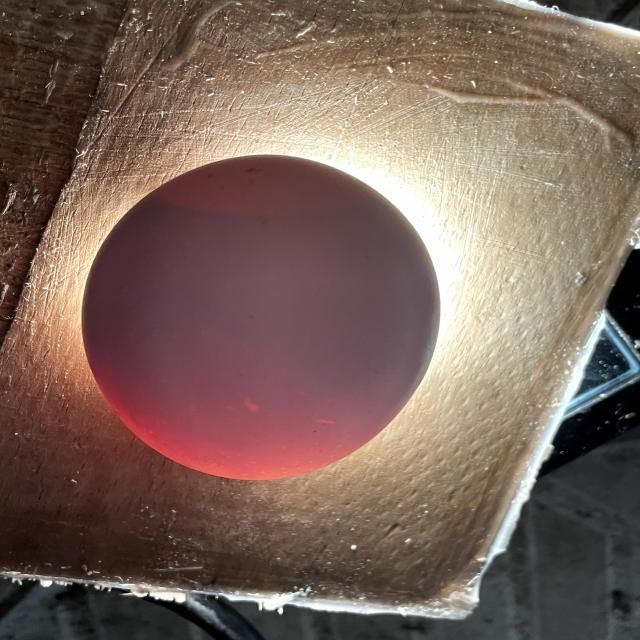fertile: (82, 155, 440, 480)
